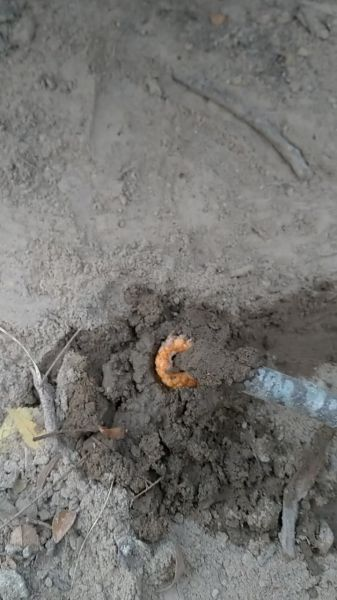eggs: (150, 330, 222, 399)
